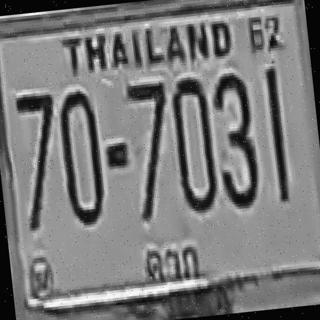N00: (168, 73, 218, 212), (56, 88, 105, 224)
N01: (264, 66, 290, 202)
N03: (209, 69, 259, 208)
N07: (125, 80, 176, 219), (13, 91, 64, 230), (13, 90, 61, 194), (125, 80, 172, 179)
P69: (137, 230, 205, 287)
